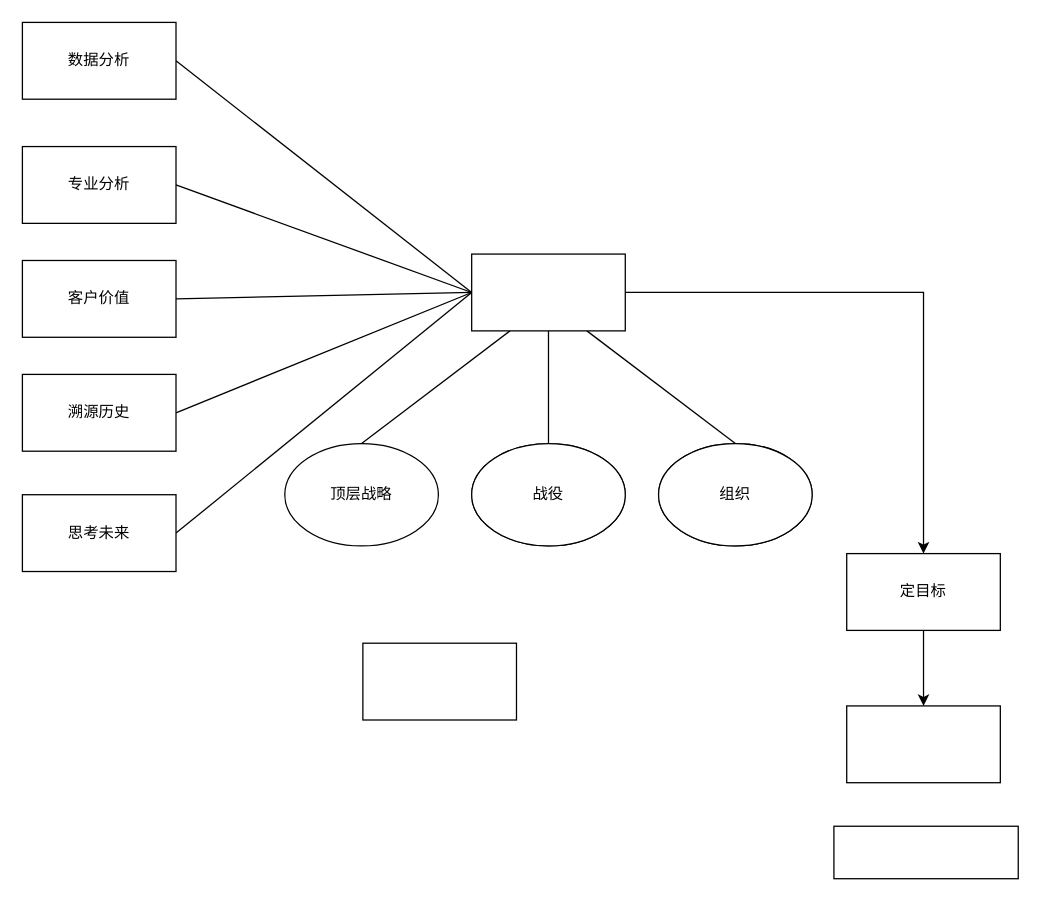
The diagram is 1041 pixels wide and 901 high, and some of its shapes have lost their labels. Each missing label, with the box of its shape:
以始为终: (845, 705, 1000, 783)
价值导向[以始为终]: (833, 825, 1018, 879)
全局分析: (470, 253, 625, 331)
技术创新: (362, 642, 516, 720)
